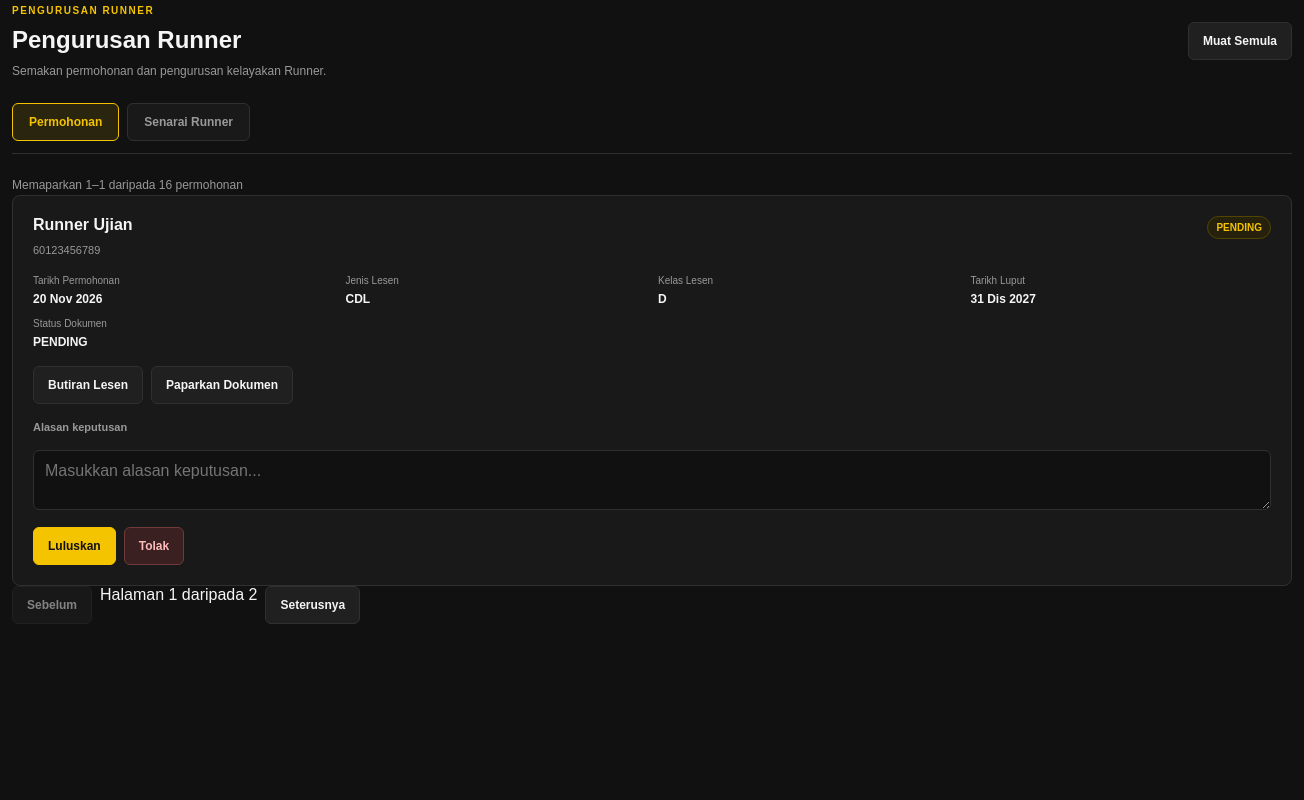
Test: RunnerApplicationsPage › memuatkan halaman seterusnya apabila diminta
Check: the heading "Runner Ujian" is shown, box [33, 216, 133, 234]
Click the button "Seterusnya" at (313, 605), box [266, 586, 360, 624]
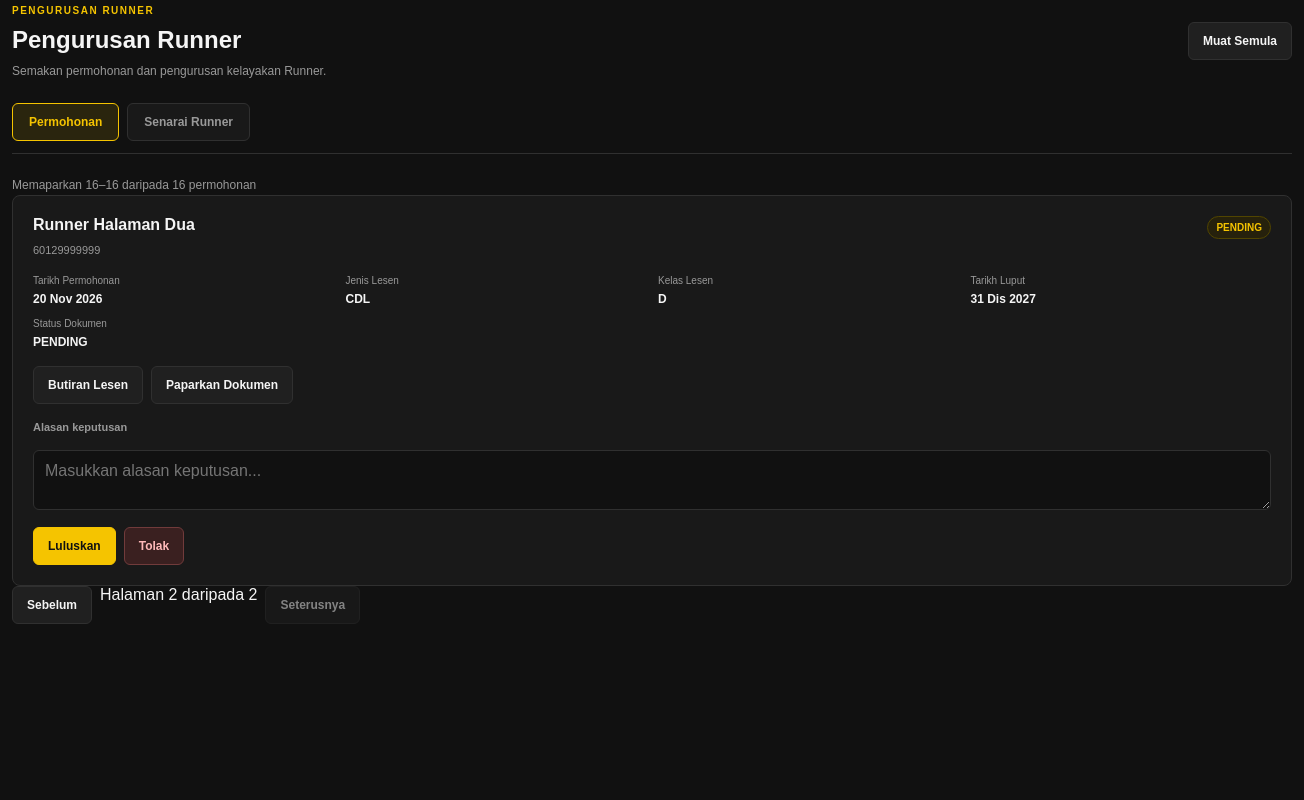
Check: the heading "Runner Halaman Dua" is shown, box [33, 216, 195, 234]
Check: the text "Halaman 2 daripada 2" is shown, box [100, 586, 258, 603]
